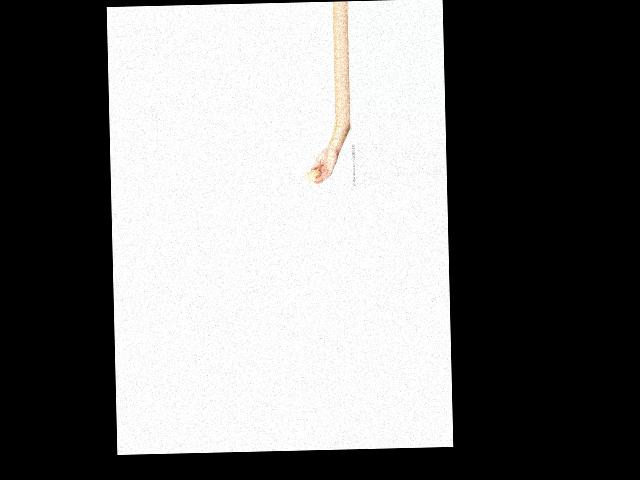egg: (304, 169, 321, 181)
